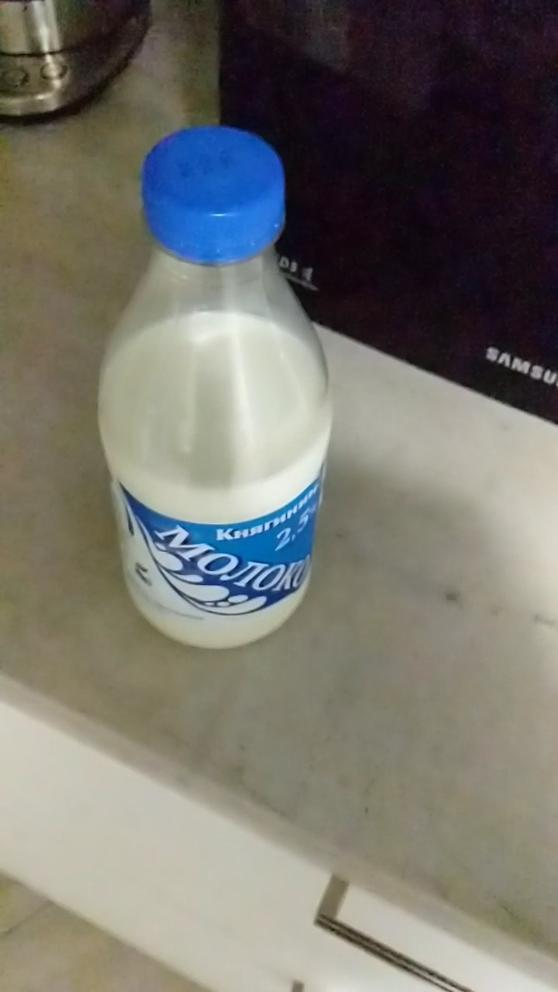milk: (75, 108, 355, 674)
